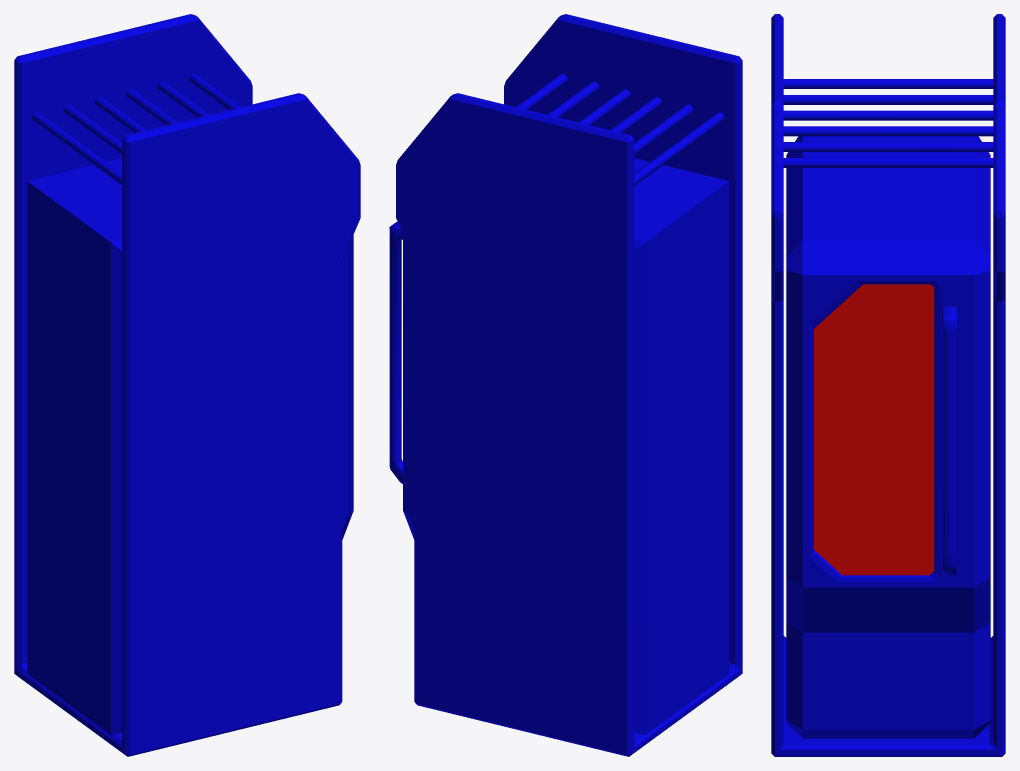
The model's file is Casier_Low.fbx.
3 views of the same model, side by side, from view 1: azimuth 30°, elevation 25°; view 2: azimuth 150°, elevation 25°; view 3: azimuth 270°, elevation 25° (orthographic). The views are drawn at different scales.
Parts seen in each view (by area): view 1: Cylinder; view 2: Cylinder; view 3: Cylinder, Cube.004.
Boxes of the visible parts, x1,y1,x2,y2 form: Cylinder: (14,14,360,756); Cylinder: (389,14,742,756); Cylinder: (771,14,1005,756); Cube.004: (814,284,934,575).
Size of the model in its own units: 0.8619 by 1.92 by 0.6404.
